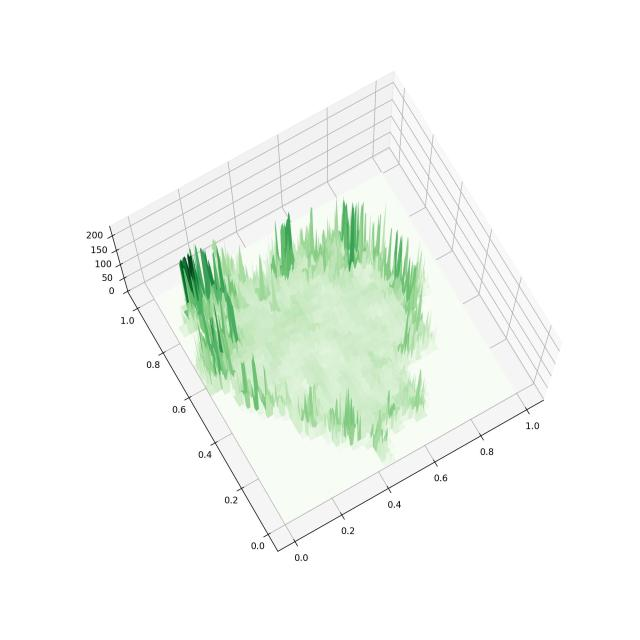fir: (56, 49, 624, 598)
